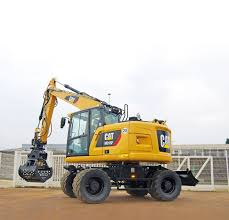excavator: (21, 79, 195, 205)
